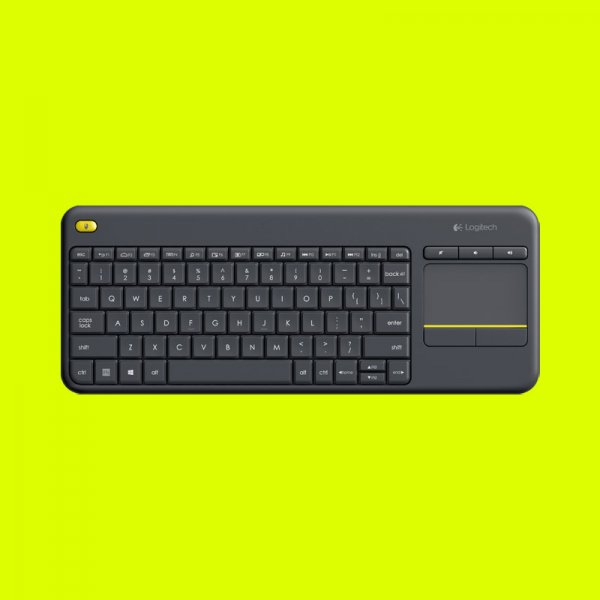logitech-keyboard-k400: (56, 202, 547, 399)
